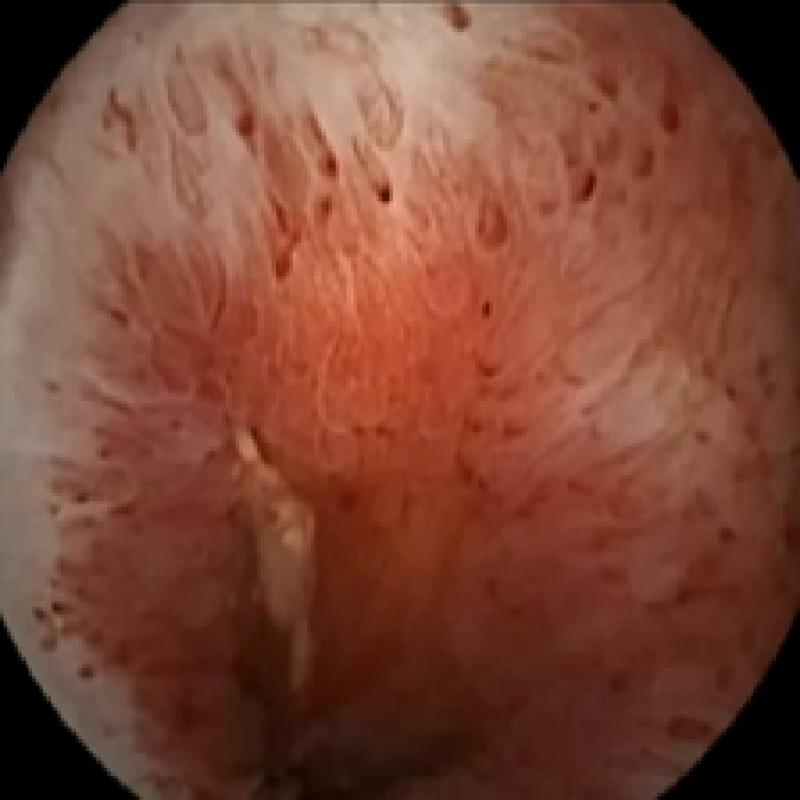bleeding: (79, 118, 775, 800)
